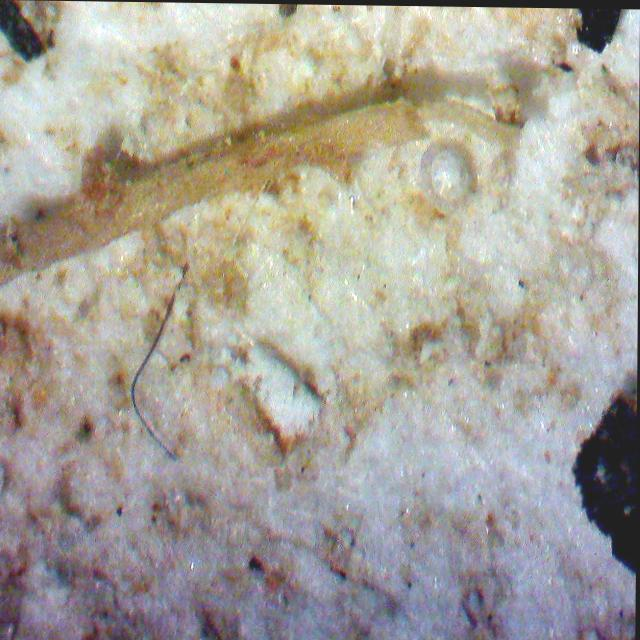microplastic: (132, 263, 189, 461)
